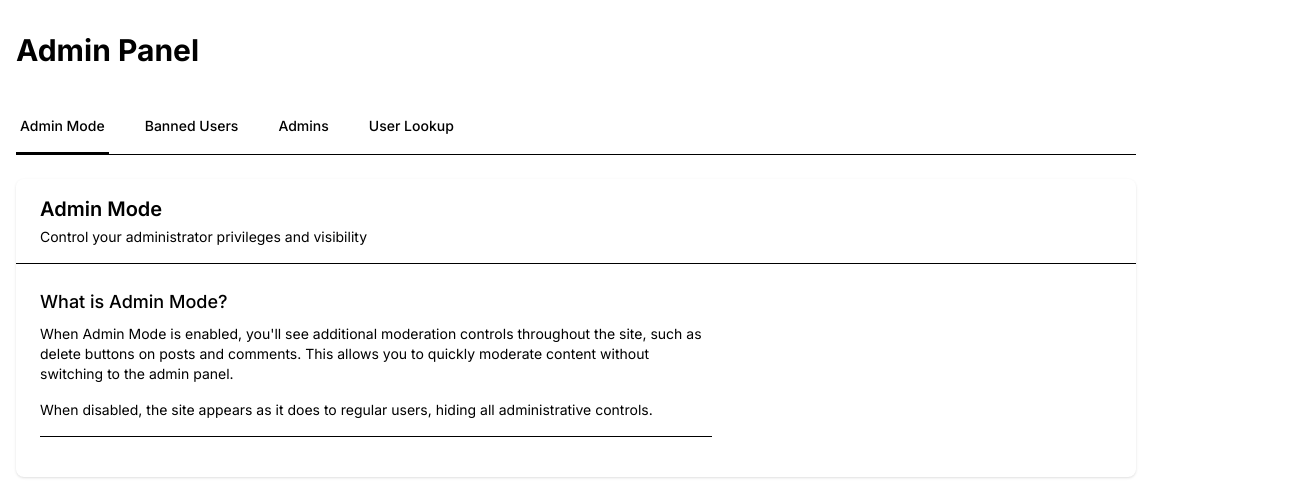
Test case: AdminPage › Revoke Admin with Self-Protection › revokes admin status for other users
Click the button "Admins".
click(304, 127)  # box [274, 100, 333, 154]
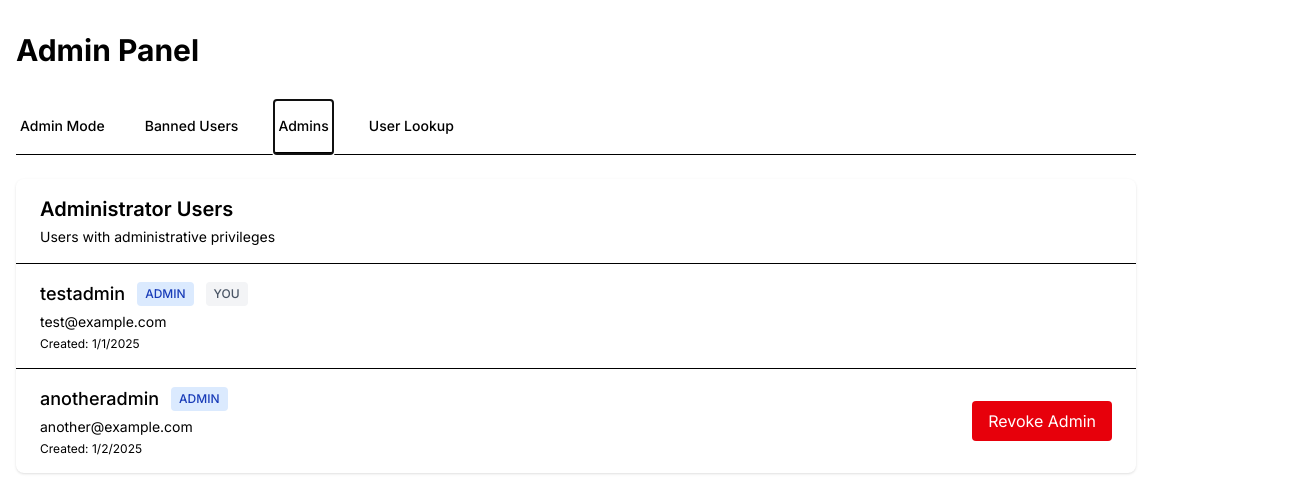
Now the heading "anotheradmin" is shown, box [40, 385, 159, 413]
Click the button "Revoke Admin".
click(1042, 421)  # box [972, 401, 1112, 441]
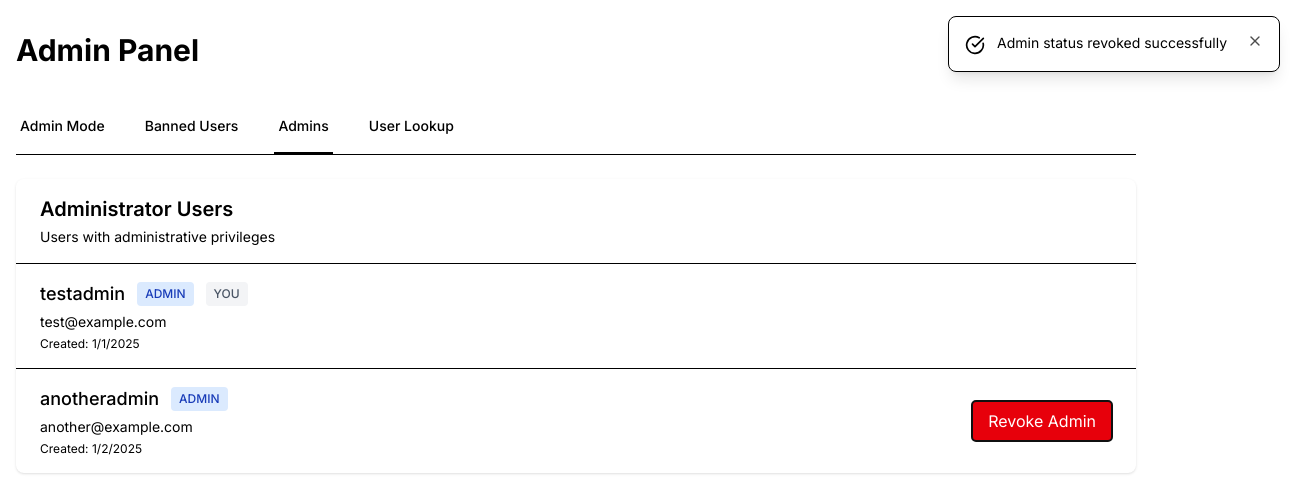
Now the text "Admin status revoked successfully" is shown, box [997, 33, 1227, 53]
